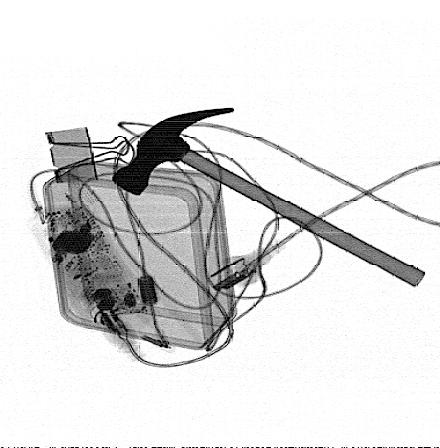Hammer: (112, 107, 426, 288)
